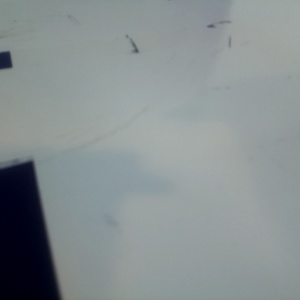top_right: (206, 116, 300, 269)
